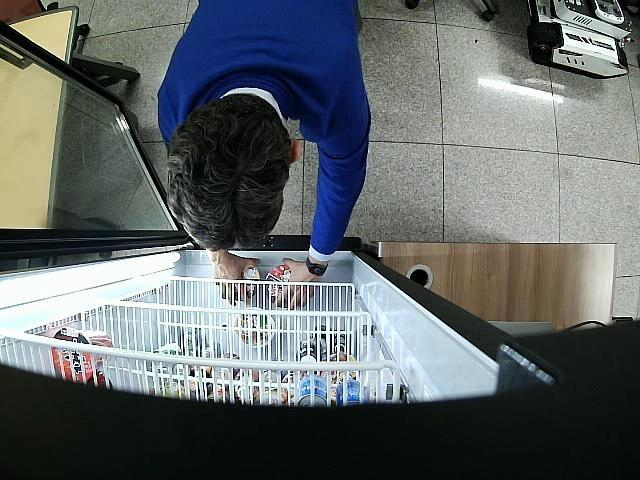07_buldak_L: (266, 264, 292, 302), (234, 266, 260, 300)
